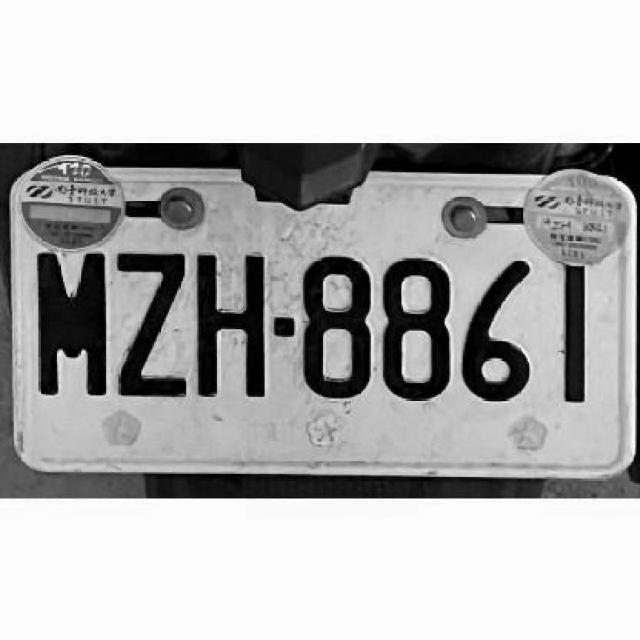-: (275, 317, 297, 338)
1: (560, 252, 589, 403)
6: (460, 251, 538, 406)
8: (298, 250, 377, 402), (375, 251, 451, 406)
H: (197, 246, 272, 402)
M: (31, 246, 108, 402)
Z: (110, 246, 188, 405)
